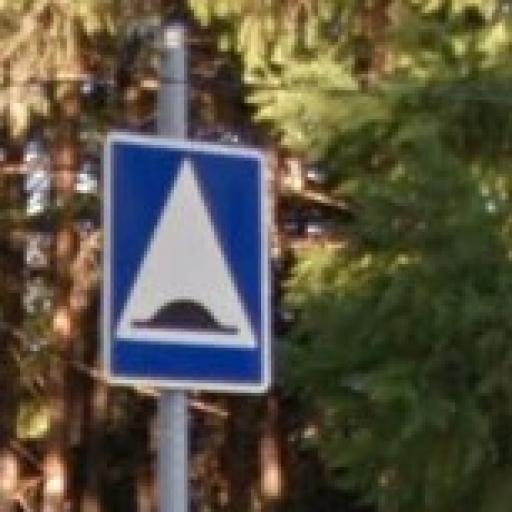traffic_sign: (98, 133, 275, 397)
